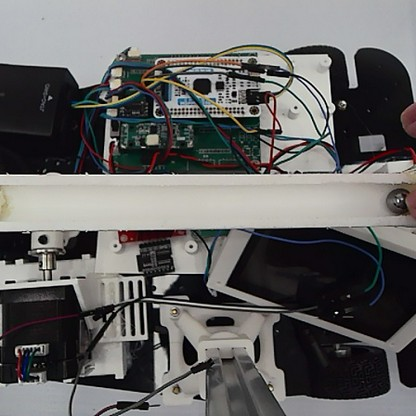ironball: (382, 185, 412, 216)
